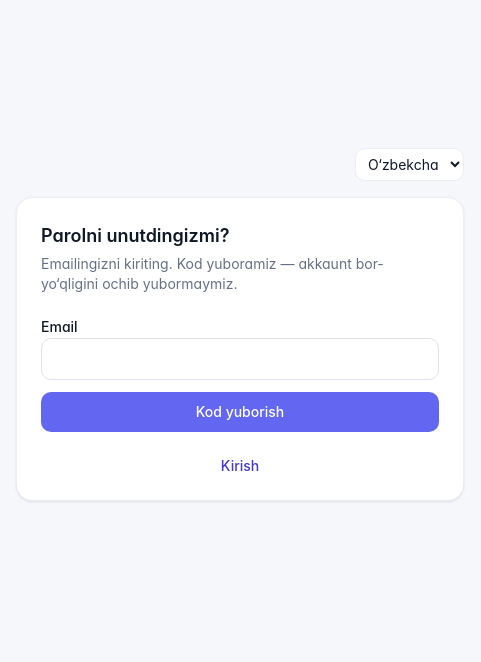
ForgotPasswordPage › blocks reset when the new passwords do not match
Type "aziz@example.com" into the field labelled "Email" at (240, 358), box [41,338,439,380]
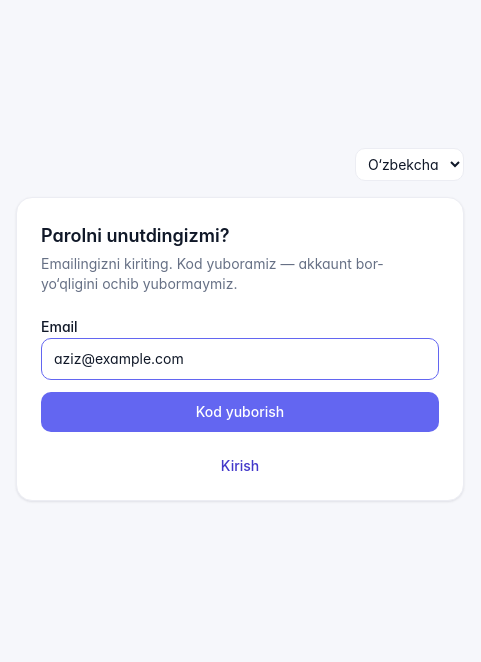
Click the button "Kod yuborish" at (240, 412), box [41,392,439,432]
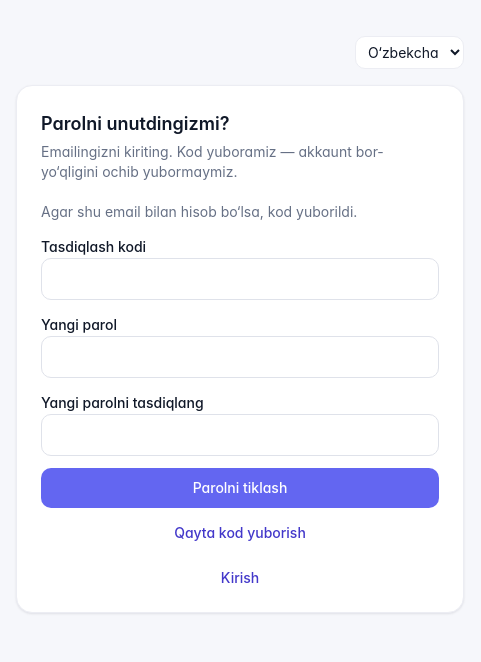
Type "123456" into the field labelled "Tasdiqlash kodi" at (240, 278), box [41,258,439,300]
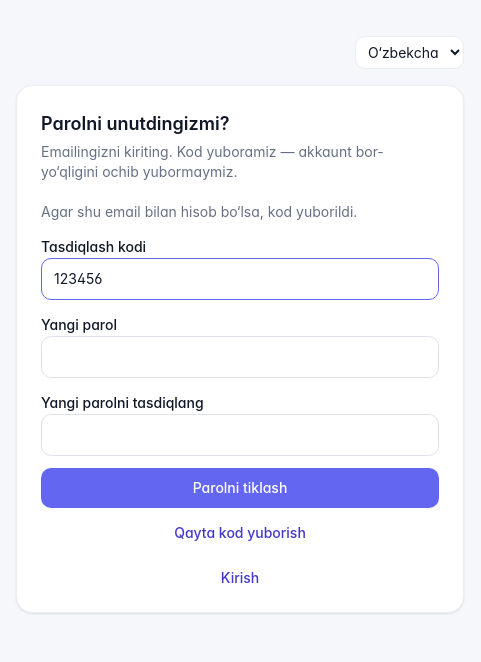
Type "NewPass12" into the password field labelled "Yangi parol" at (240, 356), box [41,336,439,378]
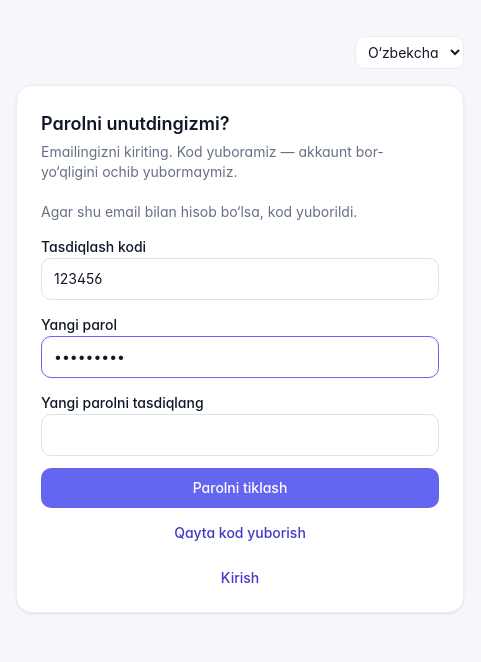
Type "OtherPass" into the password field labelled "Yangi parolni tasdiqlang" at (240, 434), box [41,414,439,456]
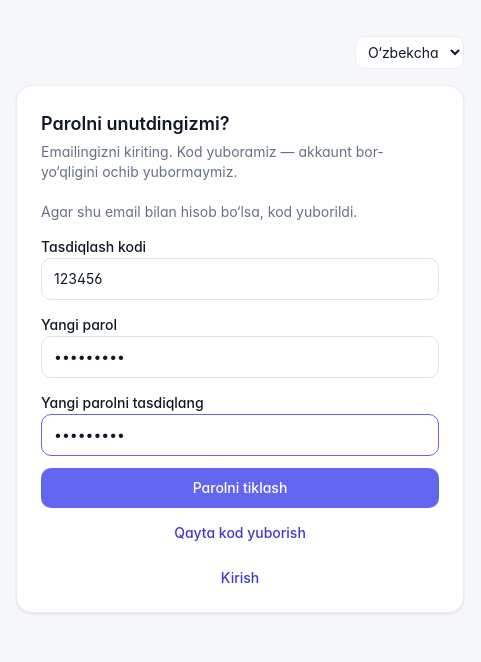
Click the button "Parolni tiklash" at (240, 488), box [41,468,439,508]
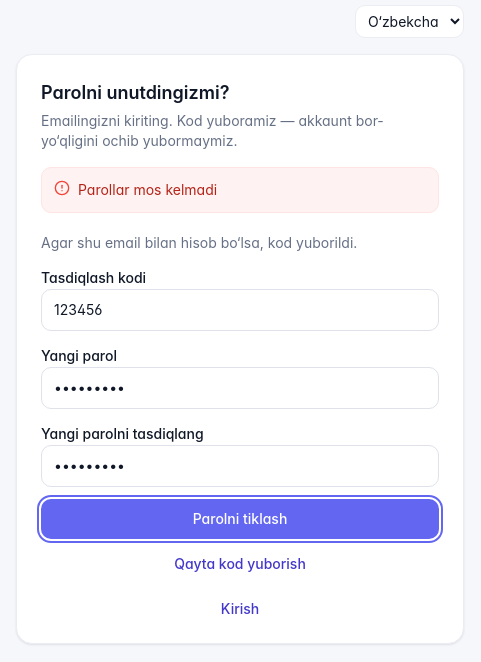
Expected: the message reads "Parollar mos kelmadi", [78,180,217,198]
